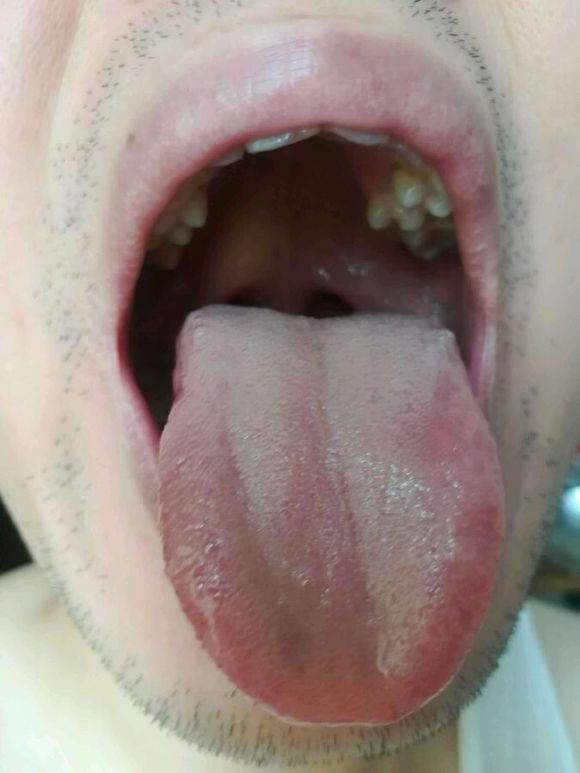baitaishe: (156, 303, 505, 727)
hongshe: (156, 303, 505, 727)
liewenshe: (308, 321, 365, 575), (216, 410, 262, 559)
